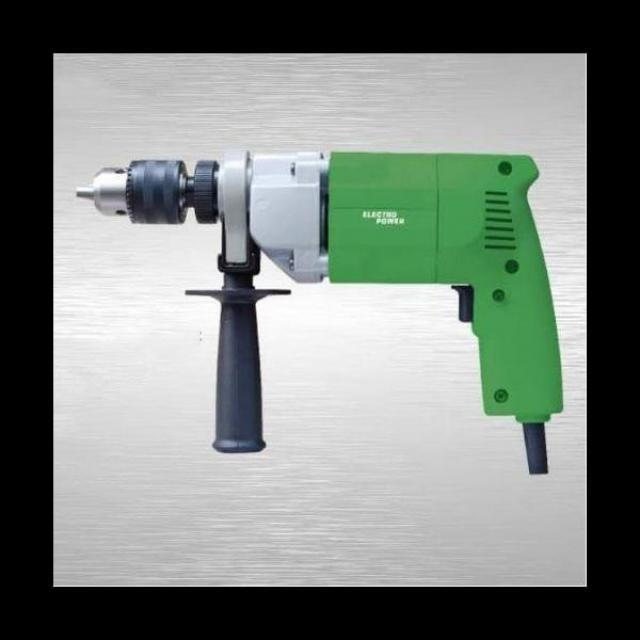drill: (75, 150, 564, 474)
